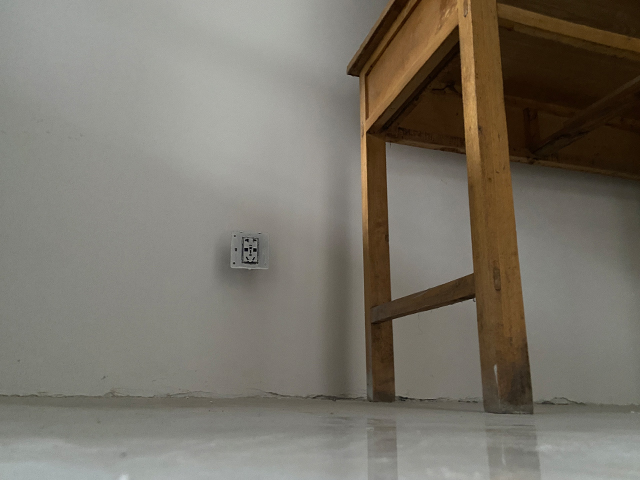table: (344, 1, 640, 416)
